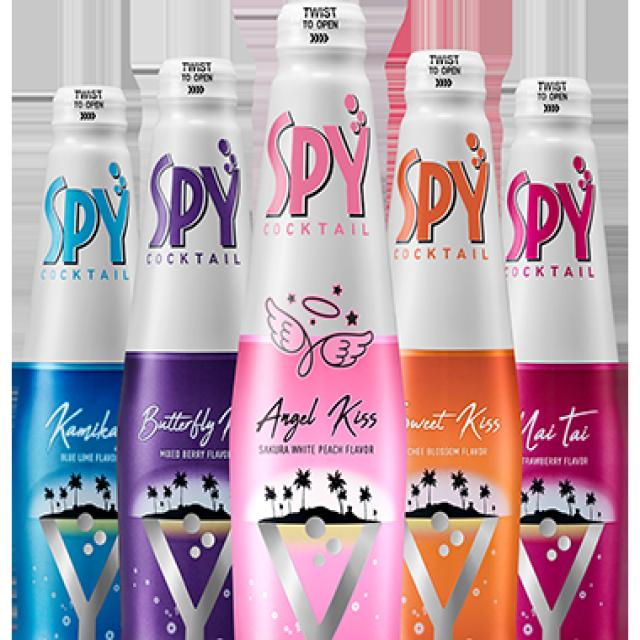glass: (230, 0, 406, 640), (385, 44, 523, 640), (115, 55, 254, 640), (499, 73, 628, 640), (13, 78, 140, 640)
